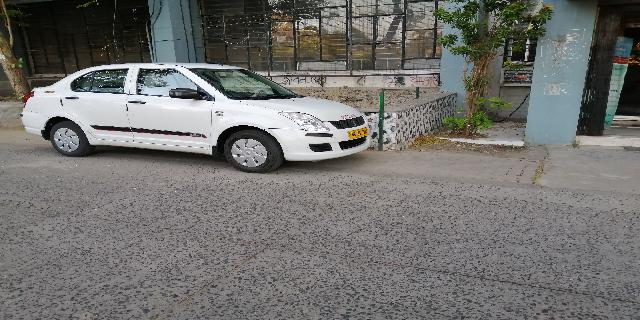Car: (18, 59, 374, 177)
